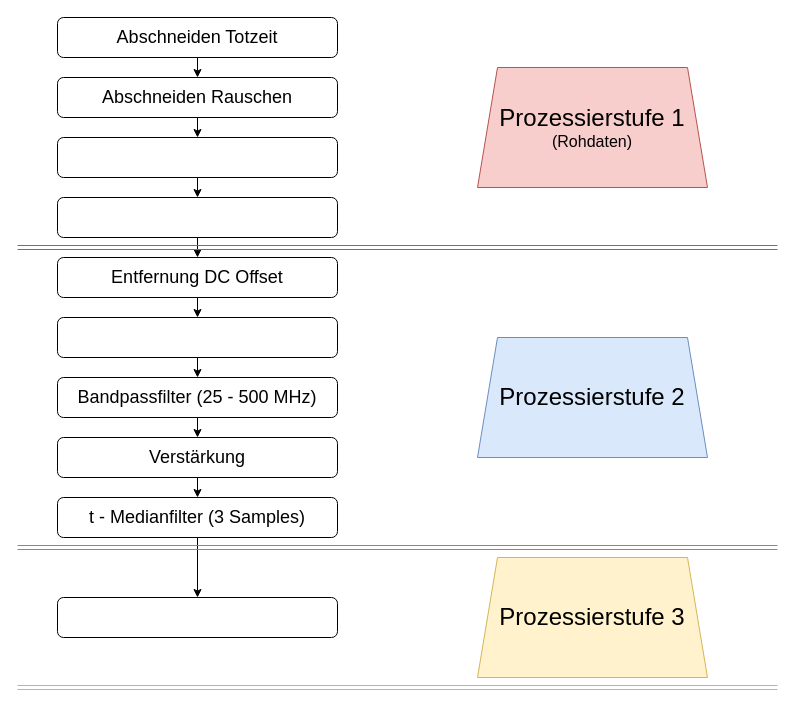
The diagram is 795 pixels wide and 707 high, and some of its shapes have lost their labels. Each missing label, with the centre of its shape:
Konstanter Spurabstand: pixel 197 157
Lineare Interpolation: pixel 197 217
Wellenzahlhochpassfilter: pixel 197 617
x - Medianfilter (5 Samples): pixel 197 337
